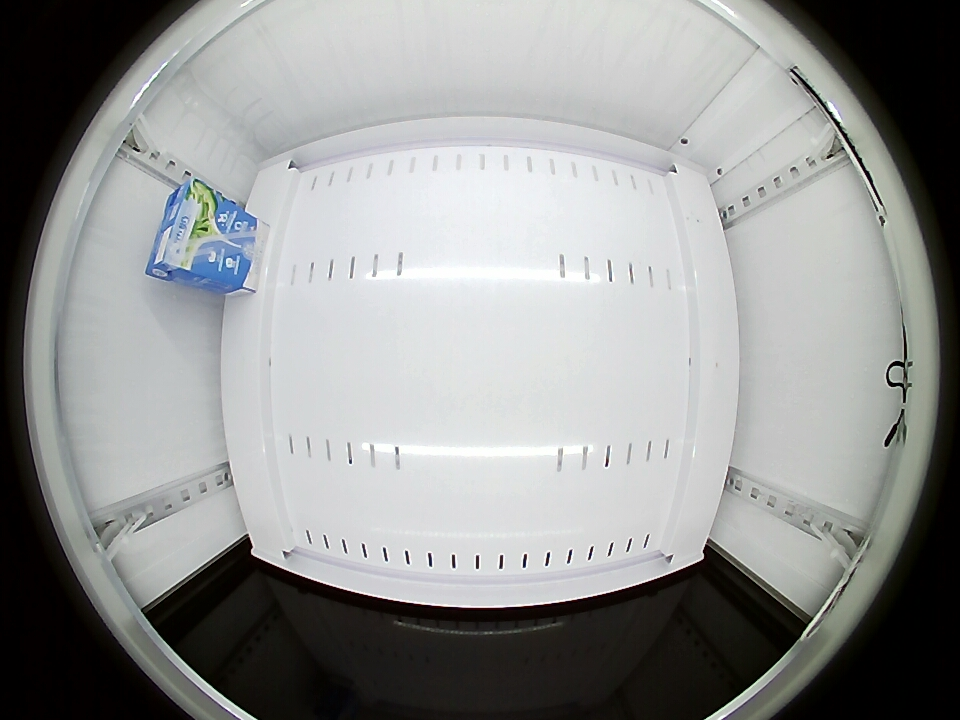weitanai: (146, 176, 228, 285)
